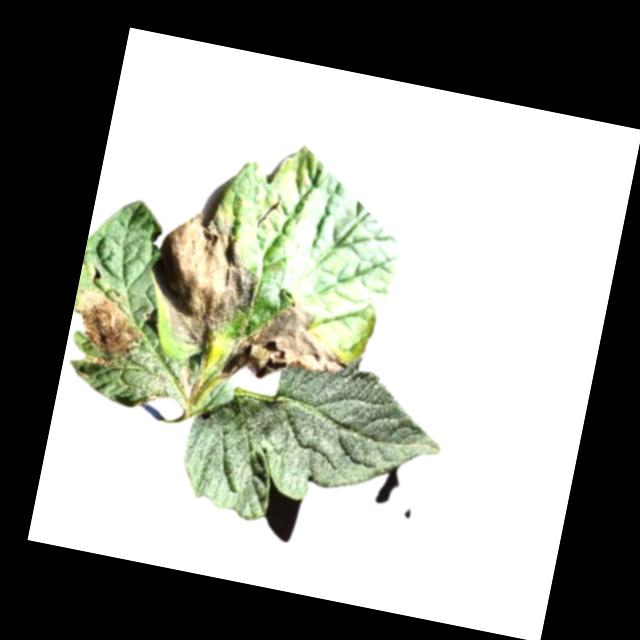Late_blight: (138, 194, 275, 360), (218, 289, 359, 402), (65, 282, 152, 362), (174, 361, 199, 401), (83, 351, 119, 368)
healthy: (174, 345, 455, 555)
